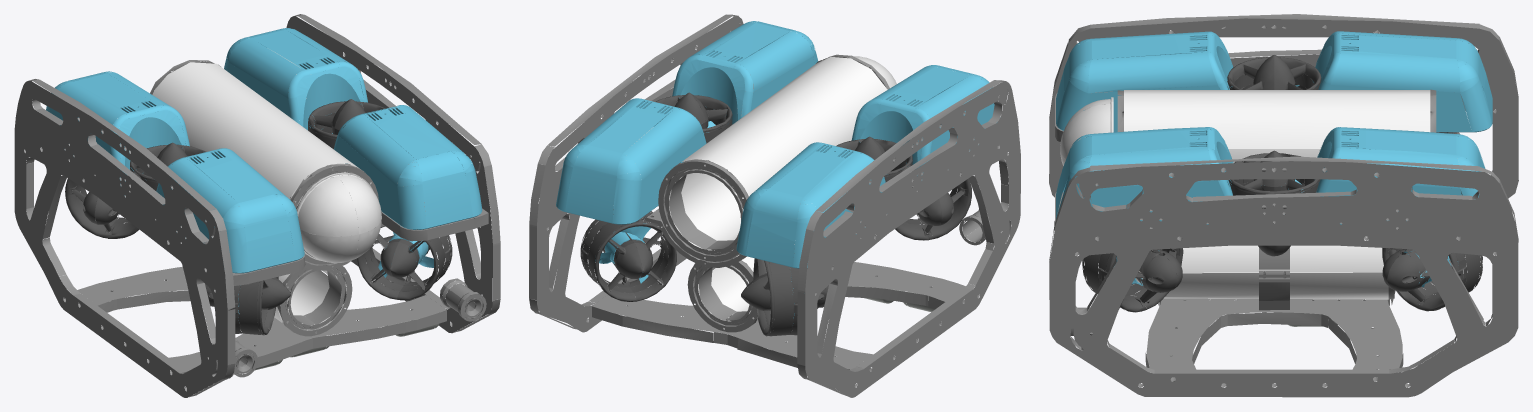
Rendered from bluerovsimple.glb.
The picture shows the model from 3 angles, left to right: view 1: azimuth 30°, elevation 25°; view 2: azimuth 150°, elevation 25°; view 3: azimuth 270°, elevation 25°; orthographic projection. The views are drawn at different scales.
Parts seen in each view (by area): view 1: Untitled_283, Untitled_012, Untitled_098, Untitled_282, Untitled_009, Untitled_499, Untitled_011, Untitled_354, Untitled_010, Untitled_117, Untitled_469, Untitled_365 (+11 smaller); view 2: Untitled_283, Untitled_098, Untitled_011, Untitled_282, Untitled_499, Untitled_010, Untitled_012, Untitled_009, Untitled_216, Untitled_428, Untitled_217, Untitled_470 (+8 smaller); view 3: Untitled_282, Untitled_098, Untitled_283, Untitled_010, Untitled_499, Untitled_009, Untitled_107, Untitled_012, Untitled_011, Untitled_215, Untitled_216, Untitled_117 (+8 smaller).
Part boxes in pixels (box(x1,y1,x2,y2)): Untitled_283: box(14, 79, 235, 397); Untitled_012: box(334, 105, 482, 229); Untitled_098: box(152, 62, 371, 209); Untitled_282: box(286, 14, 500, 333); Untitled_009: box(156, 148, 304, 273); Untitled_499: box(77, 266, 446, 376); Untitled_011: box(224, 28, 367, 130); Untitled_354: box(296, 172, 381, 263); Untitled_010: box(46, 71, 189, 183); Untitled_117: box(357, 226, 452, 300); Untitled_469: box(277, 262, 352, 336); Untitled_365: box(225, 276, 290, 335); Untitled_283: box(797, 80, 1020, 397); Untitled_098: box(664, 56, 887, 255); Untitled_011: box(556, 98, 706, 224); Untitled_282: box(529, 14, 743, 332); Untitled_499: box(592, 262, 965, 371); Untitled_010: box(736, 142, 885, 268); Untitled_012: box(672, 21, 817, 124); Untitled_009: box(851, 65, 997, 180); Untitled_216: box(580, 209, 676, 301); Untitled_428: box(658, 159, 748, 261); Untitled_217: box(741, 253, 803, 336); Untitled_470: box(687, 257, 757, 332); Untitled_282: box(1049, 156, 1518, 397); Untitled_098: box(1124, 90, 1430, 182); Untitled_283: box(1049, 14, 1518, 198); Untitled_010: box(1312, 31, 1492, 132); Untitled_499: box(1145, 290, 1403, 381); Untitled_009: box(1056, 31, 1233, 132); Untitled_107: box(1164, 236, 1388, 299); Untitled_012: box(1056, 127, 1233, 224); Untitled_011: box(1314, 127, 1485, 224); Untitled_215: box(1227, 55, 1321, 89); Untitled_216: box(1382, 229, 1482, 311); Untitled_117: box(1082, 240, 1183, 312).
Bounding box in the file's own units: 0.338 × 0.2552 × 0.4576.
